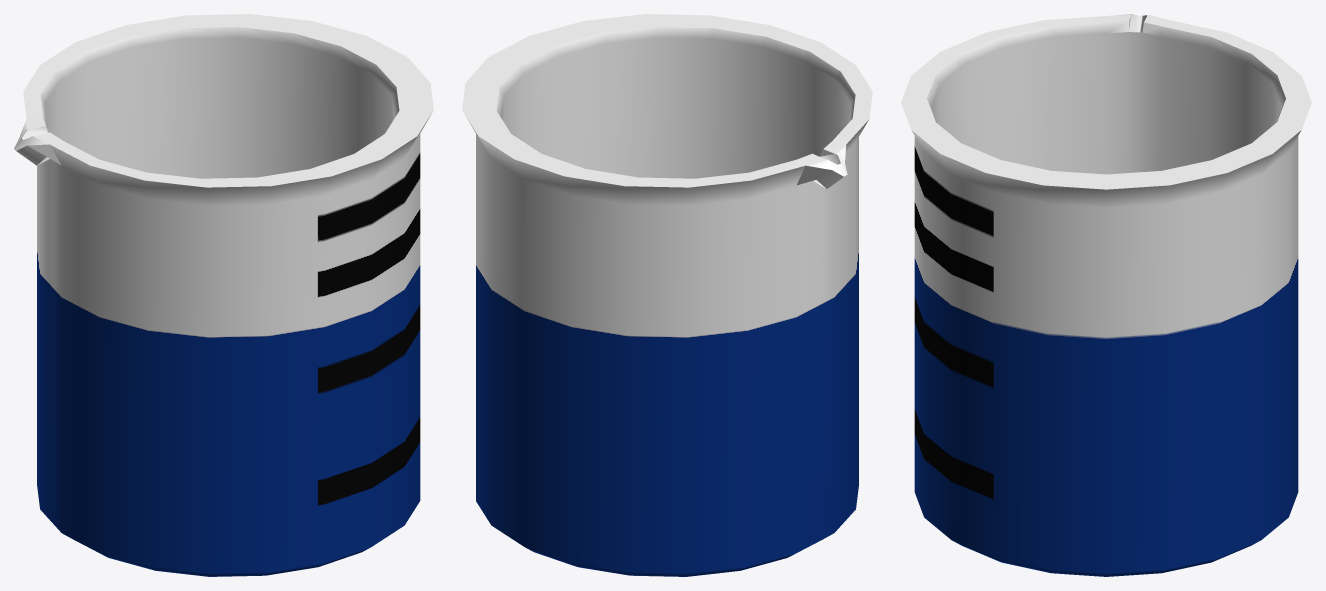
File: beakerBlue.fbx
The picture shows the model from 3 angles, left to right: view 1: azimuth 30°, elevation 25°; view 2: azimuth 150°, elevation 25°; view 3: azimuth 270°, elevation 25°; orthographic projection.
Visible parts, largest first — view 1: pasted__polySurface7; view 2: pasted__polySurface7; view 3: pasted__polySurface7.
Boxes of the visible parts, left/top/right/bottom form: pasted__polySurface7: left=14, top=14, right=433, bottom=576; pasted__polySurface7: left=462, top=14, right=872, bottom=576; pasted__polySurface7: left=901, top=14, right=1311, bottom=576.
Size of the model in its own units: 0.6211 by 0.6355 by 0.5923.
Materials: 1 (1 with a texture image).
